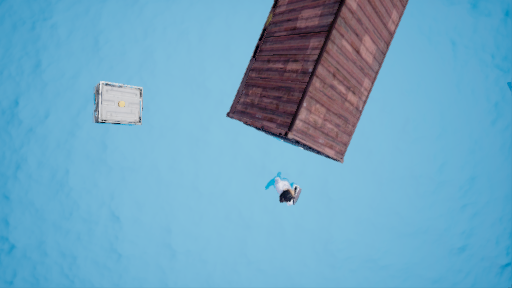person: (266, 172, 307, 205)
